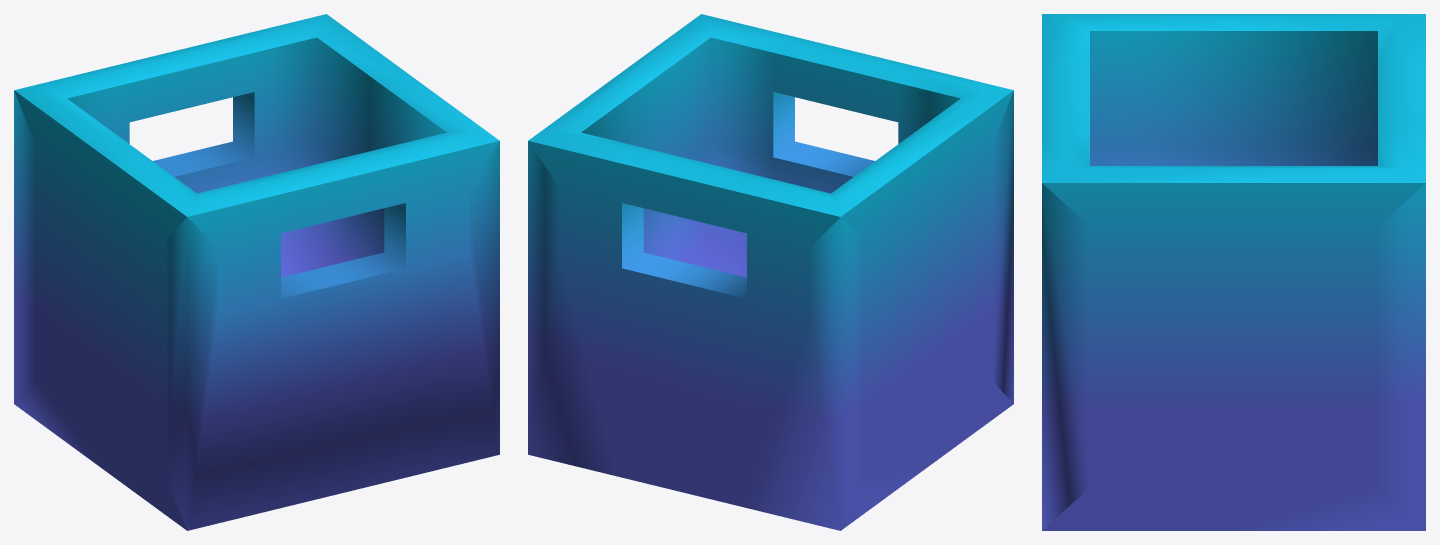
File: StorageBasket.fbx
The picture shows the model from 3 angles, left to right: view 1: azimuth 30°, elevation 25°; view 2: azimuth 150°, elevation 25°; view 3: azimuth 270°, elevation 25°; orthographic projection. The views are drawn at different scales.
Visible parts, largest first — view 1: Basket; view 2: Basket; view 3: Basket.
Boxes of the visible parts, x1,y1,x2,y2 form: Basket: (14, 14, 499, 530); Basket: (528, 14, 1013, 530); Basket: (1042, 14, 1425, 530).
Size of the model in its own units: 1.25 by 1.22 by 1.2.
